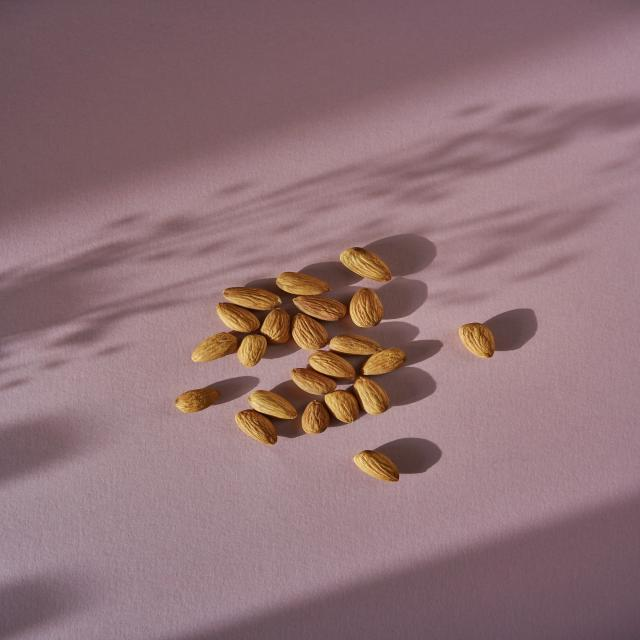almond: (339, 246, 392, 283), (354, 449, 401, 484), (236, 407, 278, 446), (310, 350, 360, 382), (191, 330, 238, 364), (276, 271, 331, 299), (352, 376, 390, 416), (291, 295, 347, 322), (224, 286, 282, 312), (247, 390, 298, 419), (291, 310, 327, 350), (349, 287, 383, 327), (358, 348, 406, 376), (457, 322, 496, 356), (217, 303, 260, 333), (292, 367, 338, 395), (328, 334, 383, 356), (324, 390, 360, 423), (177, 388, 220, 413), (262, 310, 292, 344), (239, 335, 267, 368), (301, 401, 328, 434)
